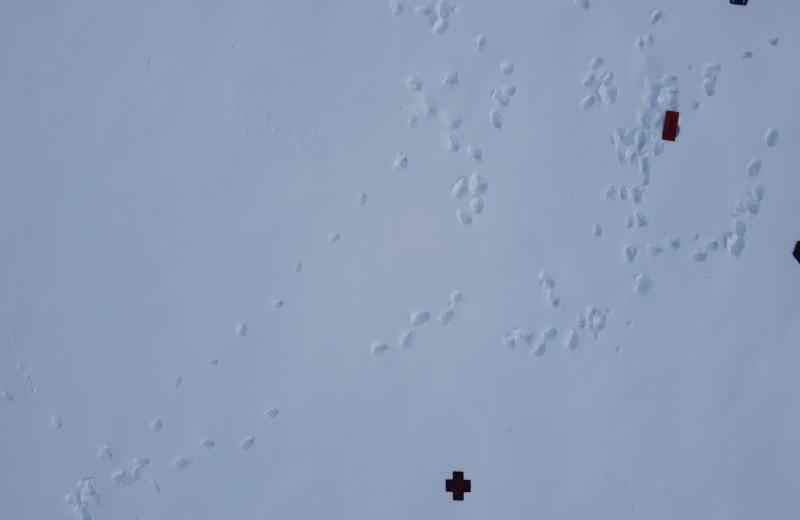Cross: (444, 467, 474, 504)
Rectangle: (660, 107, 690, 143)
